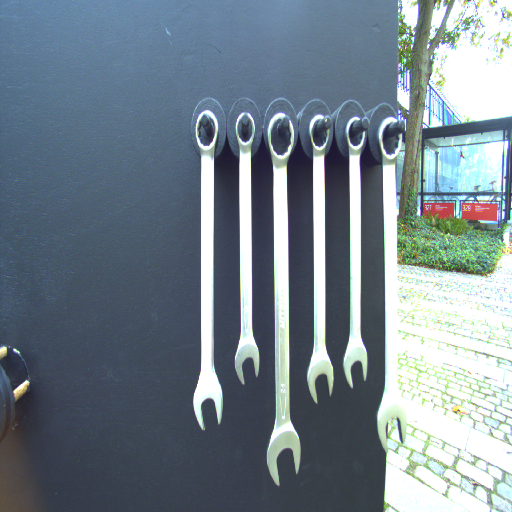bottom: (264, 420, 304, 487), (189, 374, 226, 432), (374, 390, 409, 450), (306, 352, 338, 404), (340, 339, 371, 387), (232, 337, 262, 386)
top: (266, 110, 296, 165), (192, 107, 222, 152), (378, 117, 404, 165), (307, 111, 332, 158), (344, 113, 365, 157), (233, 111, 256, 151)
